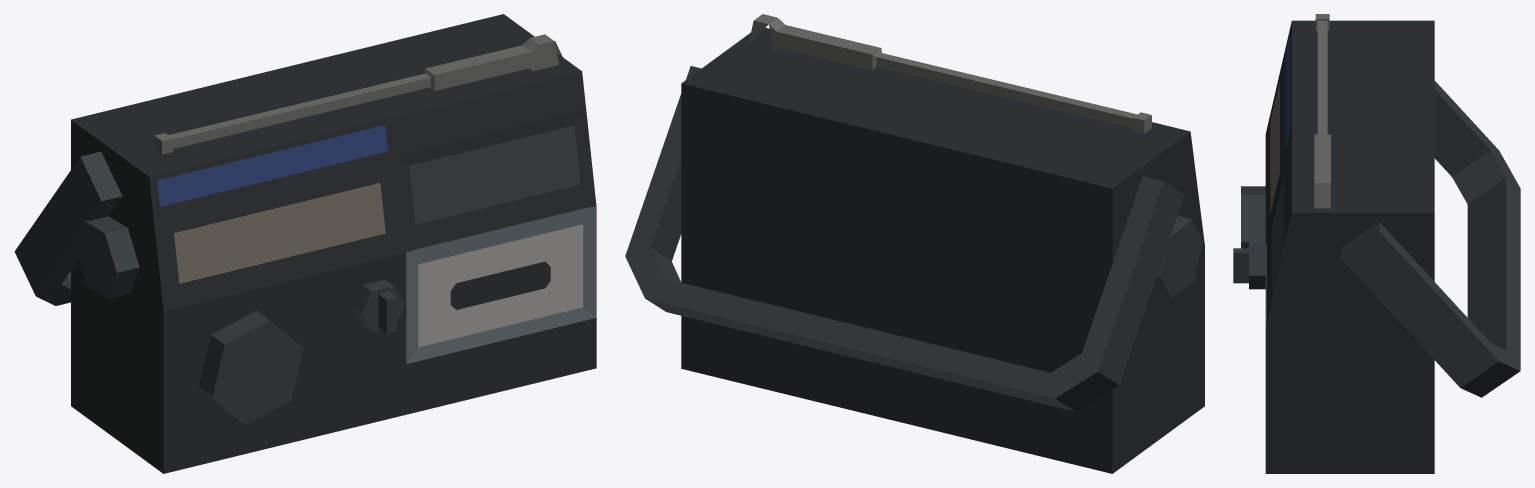
Rendered from SM_Prop_Radio_02.glb.
3 renders of one model, left to right at view 1: azimuth 30°, elevation 25°; view 2: azimuth 150°, elevation 25°; view 3: azimuth 270°, elevation 25°, orthographic. The views are drawn at different scales.
Parts seen in each view (by area): view 1: SM_Prop_Radio_02; view 2: SM_Prop_Radio_02; view 3: SM_Prop_Radio_02.
Part boxes in pixels (x1,y1,x2,y2): SM_Prop_Radio_02: (14,14,596,473); SM_Prop_Radio_02: (625,14,1204,473); SM_Prop_Radio_02: (1233,14,1520,473).
Size of the model in its own units: 0.3862 by 0.2414 by 0.2212.
Materials: 1 (1 with a texture image).
